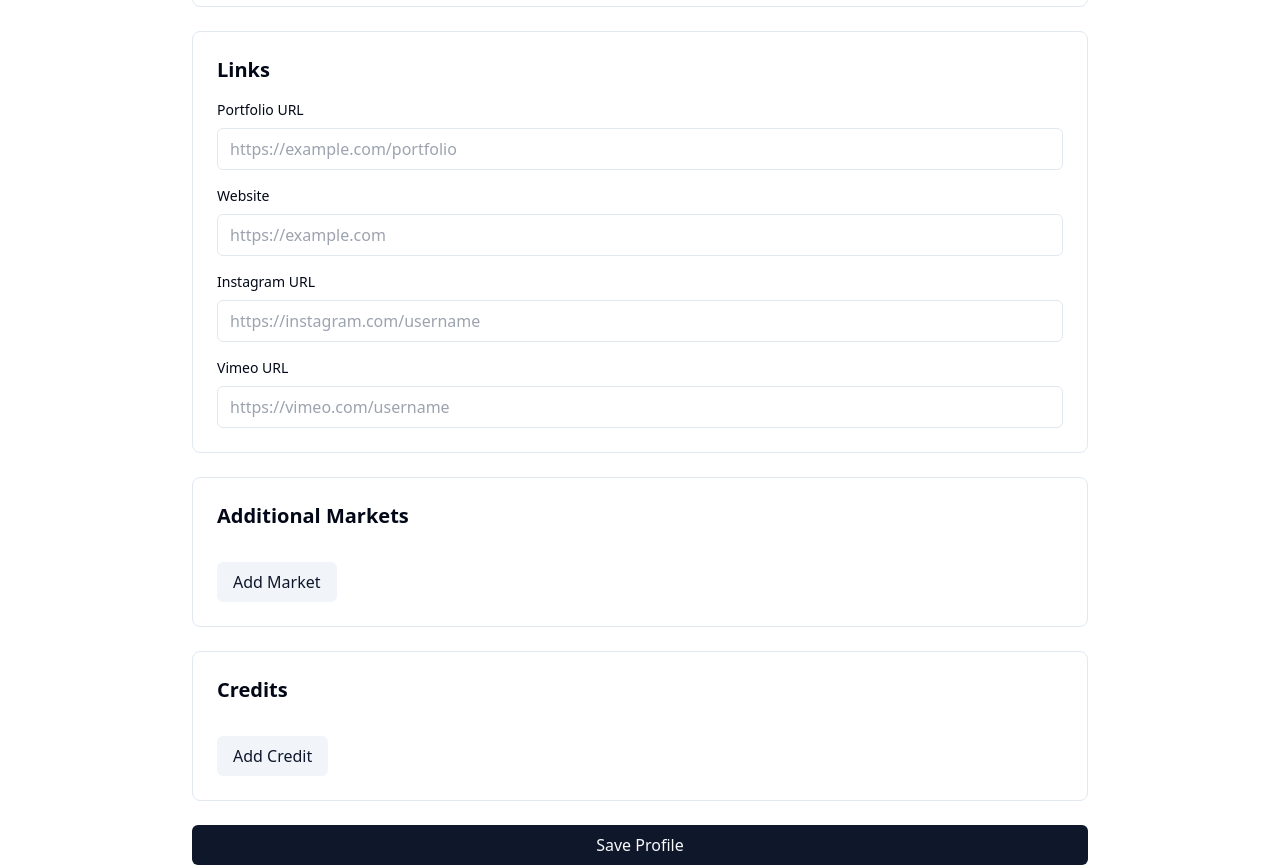
Test case: ProfileEditForm › should handle API error response
(page scrolled)
Click the button "Save Profile" at (640, 845), box [192, 825, 1088, 864]
(page scrolled)
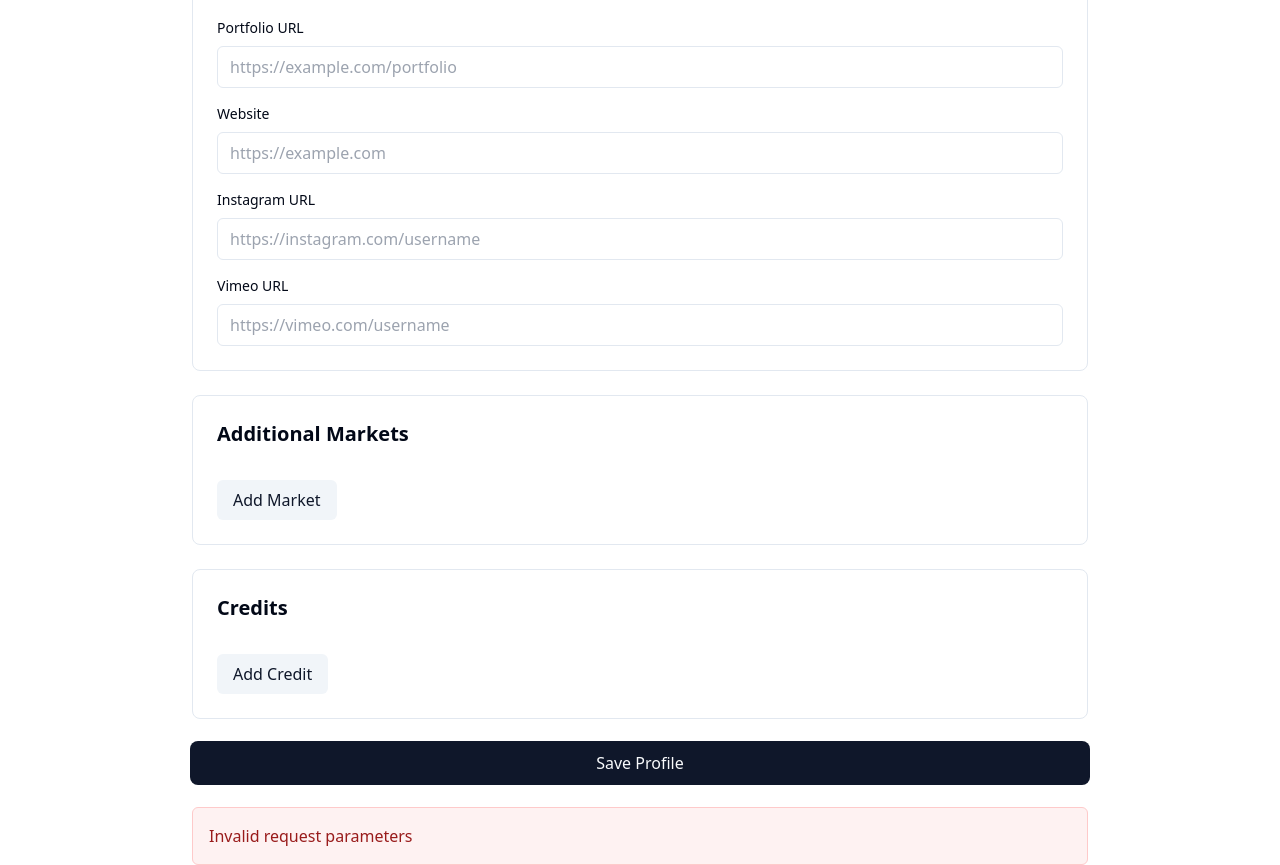
Expected: the text "Invalid request parameters" is shown, [192, 807, 1088, 864]
